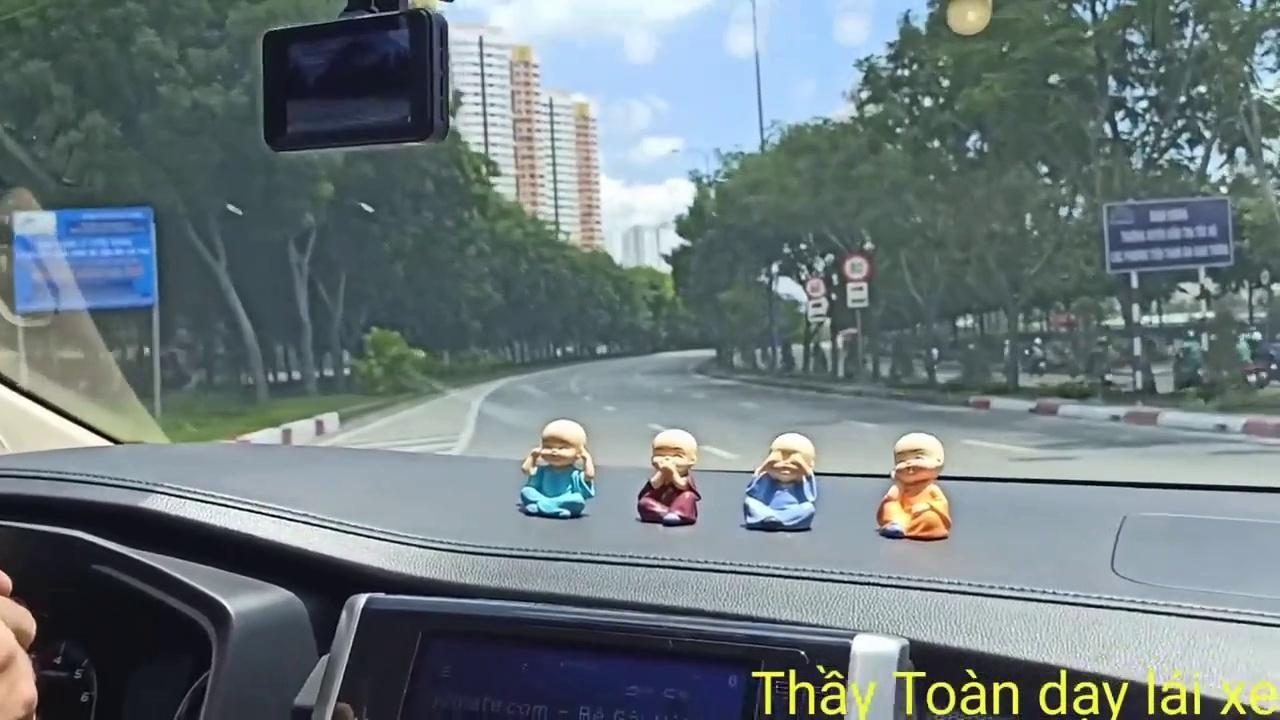Biển phụ: (845, 281, 870, 308), (807, 298, 828, 321)
GIơi hạn tốc độ 60Km/h: (806, 278, 826, 297)
Giới hạn tốc độ 80Km/h: (841, 254, 871, 280)
Khác: (11, 205, 159, 316)
